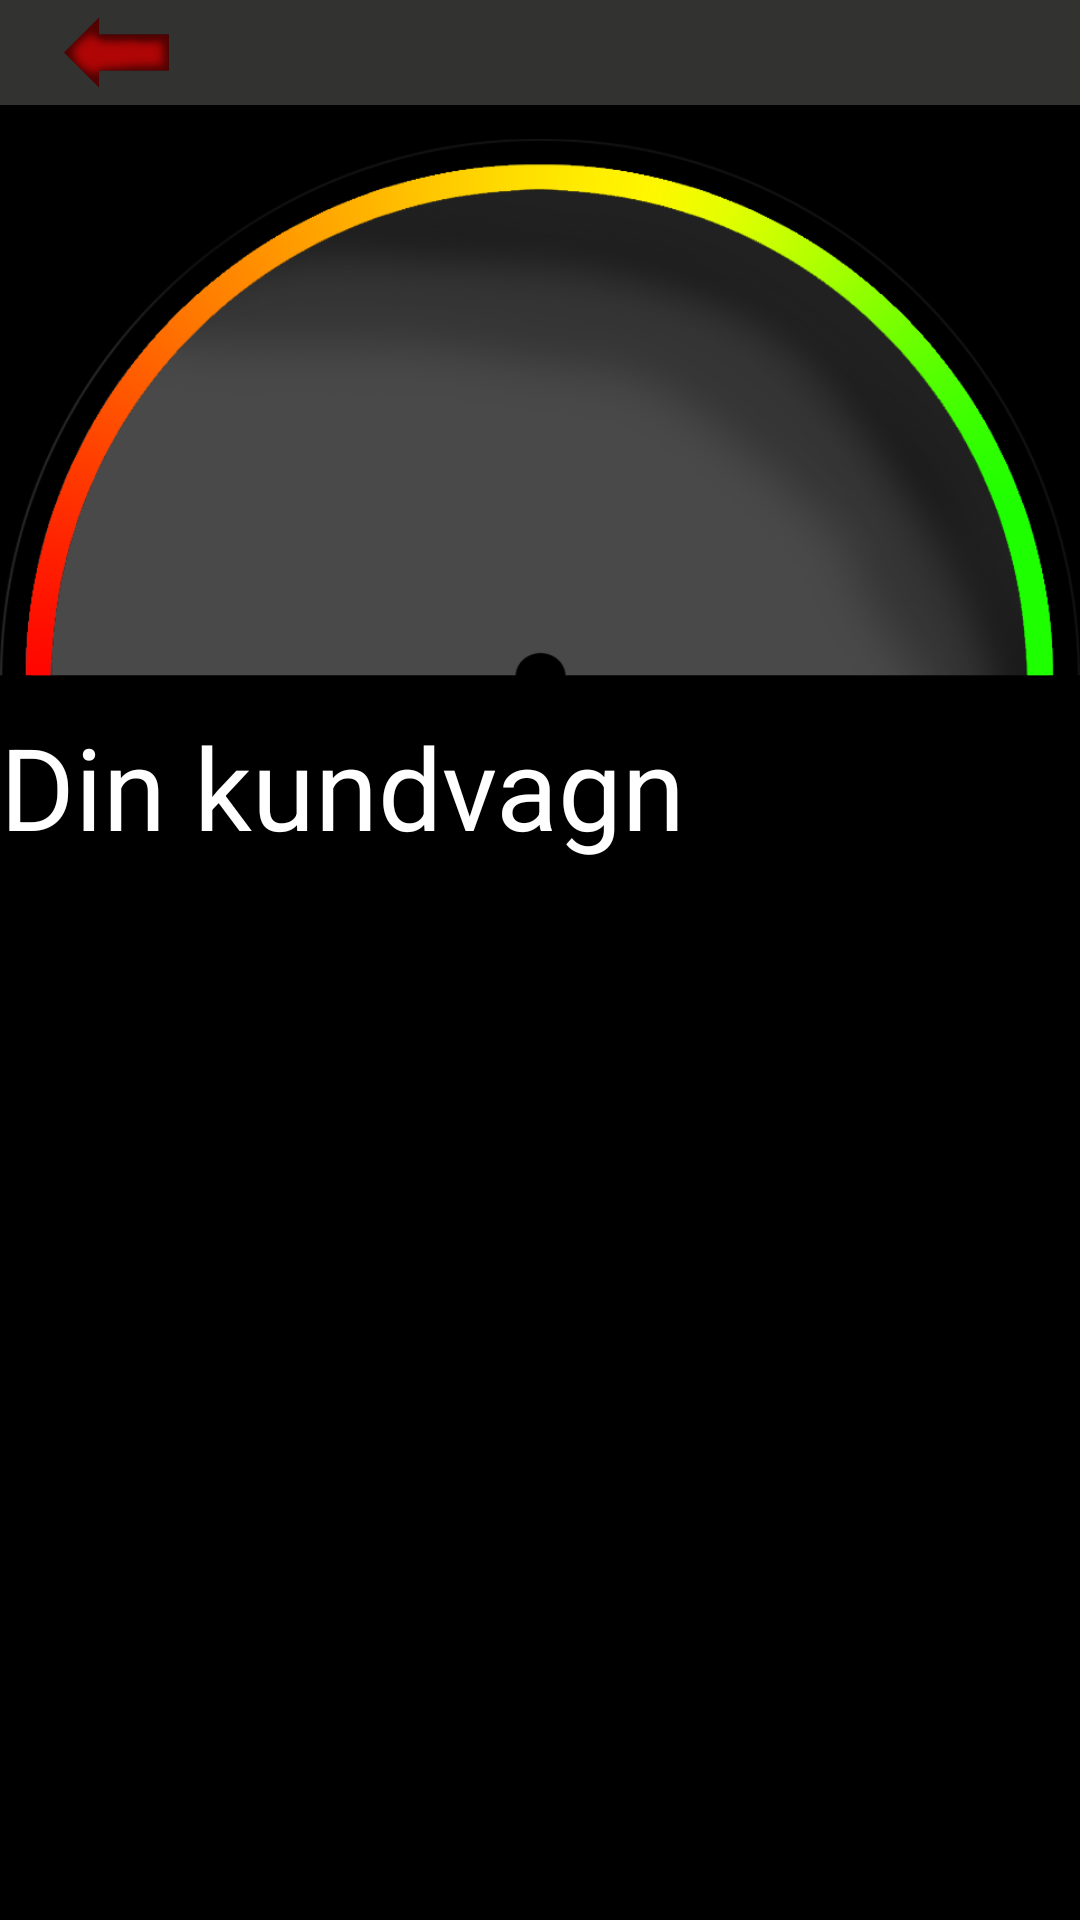

Icon click points for this 1080*1920 phone screenshot, format (x=x, y=y):
back arrow: (x=116, y=52)
